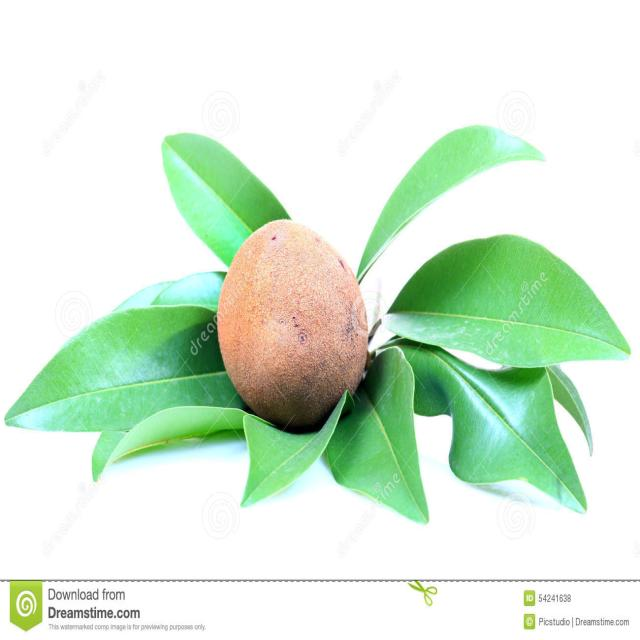chikkoo: (207, 216, 407, 440)
